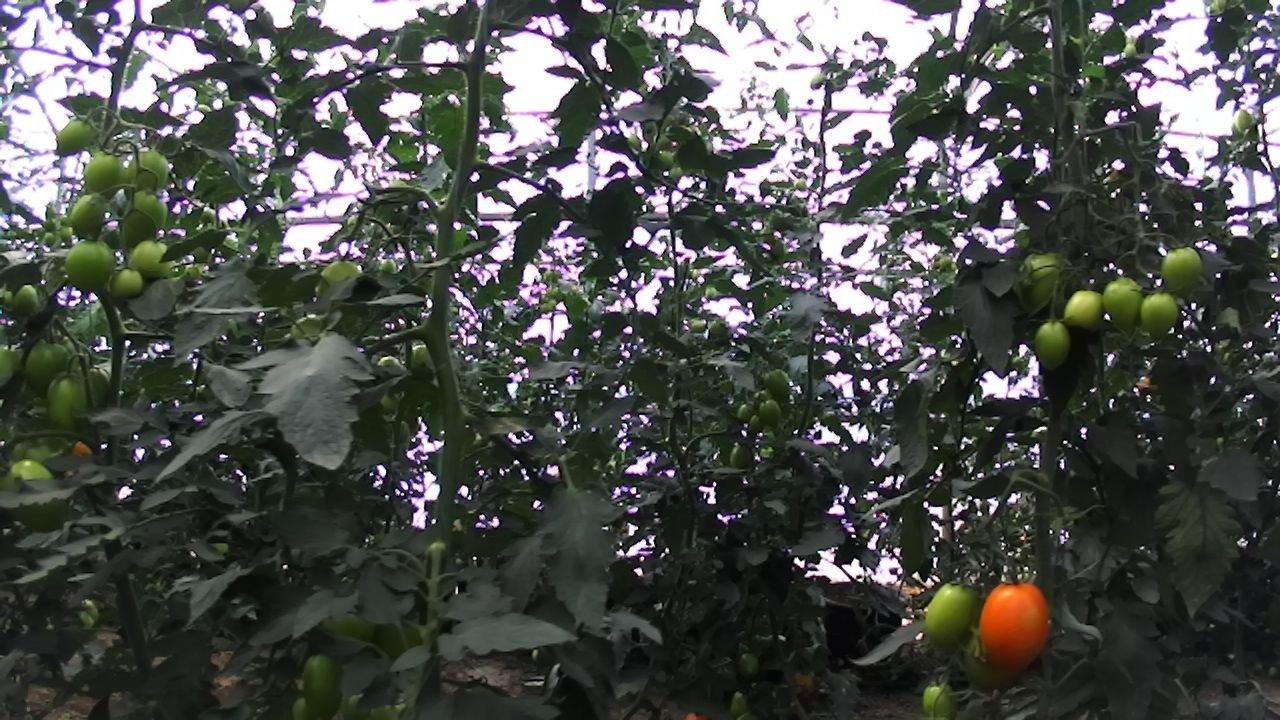tomato: (966, 570, 1066, 682), (1001, 238, 1091, 334), (39, 359, 123, 447), (0, 449, 79, 541), (915, 572, 985, 660), (1146, 231, 1217, 306), (1093, 267, 1157, 345), (295, 646, 361, 720), (113, 179, 178, 254), (18, 335, 82, 406), (56, 230, 120, 300), (1131, 279, 1190, 351), (1050, 279, 1117, 342), (1026, 310, 1083, 384), (119, 137, 176, 210), (77, 144, 128, 205), (125, 230, 179, 287), (909, 673, 970, 720), (49, 109, 97, 165), (64, 187, 109, 237), (102, 261, 152, 306), (7, 277, 46, 324), (729, 645, 769, 688), (759, 364, 800, 405), (722, 685, 758, 720), (726, 439, 759, 477), (755, 395, 788, 431), (1226, 103, 1258, 137), (766, 234, 793, 268), (803, 67, 831, 97), (732, 399, 760, 427), (655, 148, 679, 175), (744, 411, 767, 437), (665, 162, 687, 188), (790, 173, 813, 197), (1120, 39, 1140, 64)
